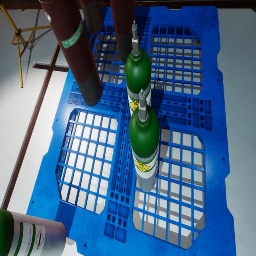0: (129, 88, 160, 192), (0, 209, 66, 256), (125, 20, 151, 117)
NitrogenTank ,: (38, 0, 102, 106), (110, 0, 135, 64), (80, 0, 103, 34)
